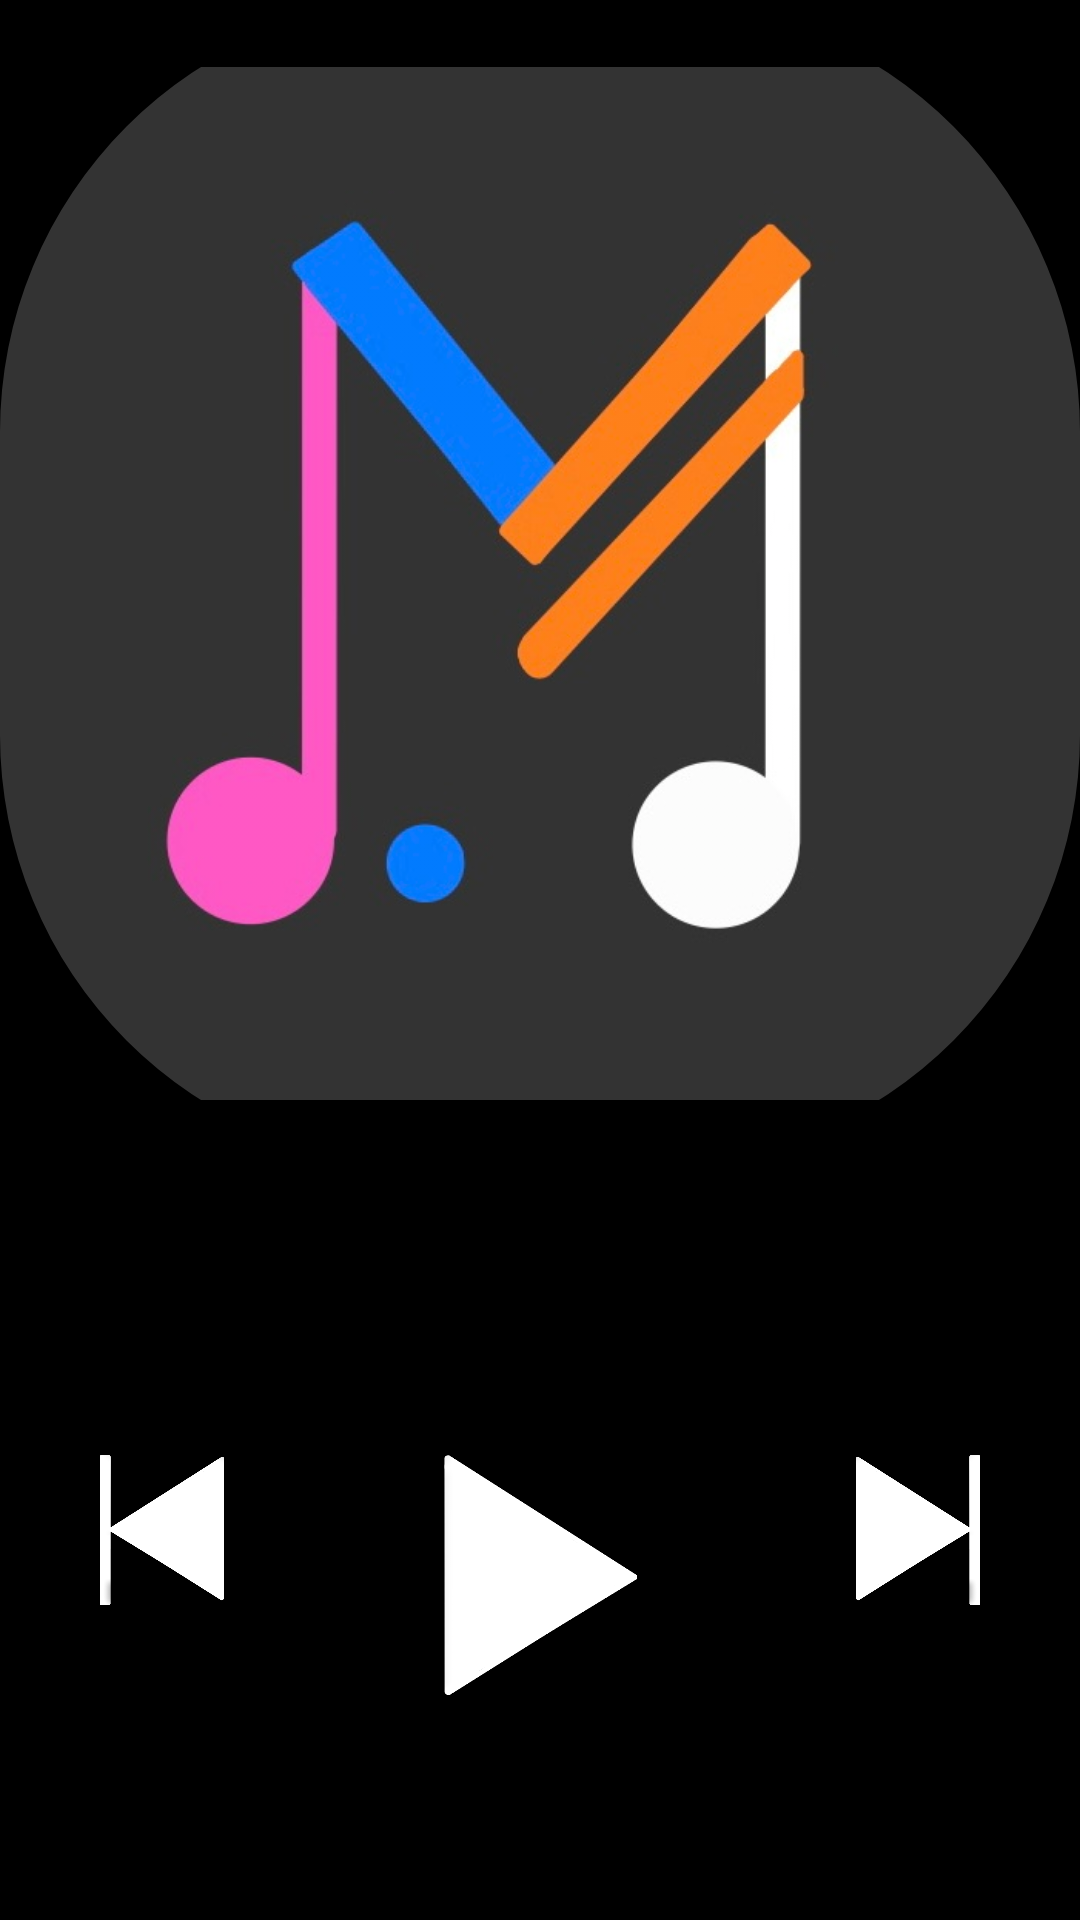

Icons on this 1080px×1920px Android screen, each with its box as (x1,y1,x2,y2):
start draw: (444,1455,637,1695)
